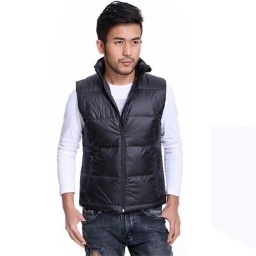face: (95, 1, 143, 77)
